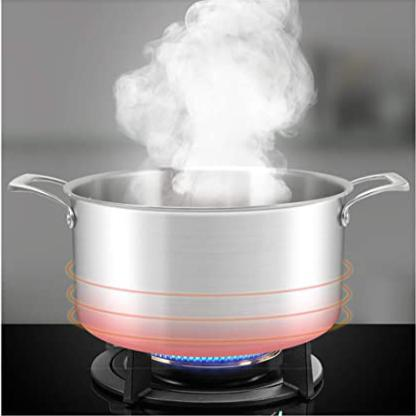smoke: (123, 0, 311, 214)
